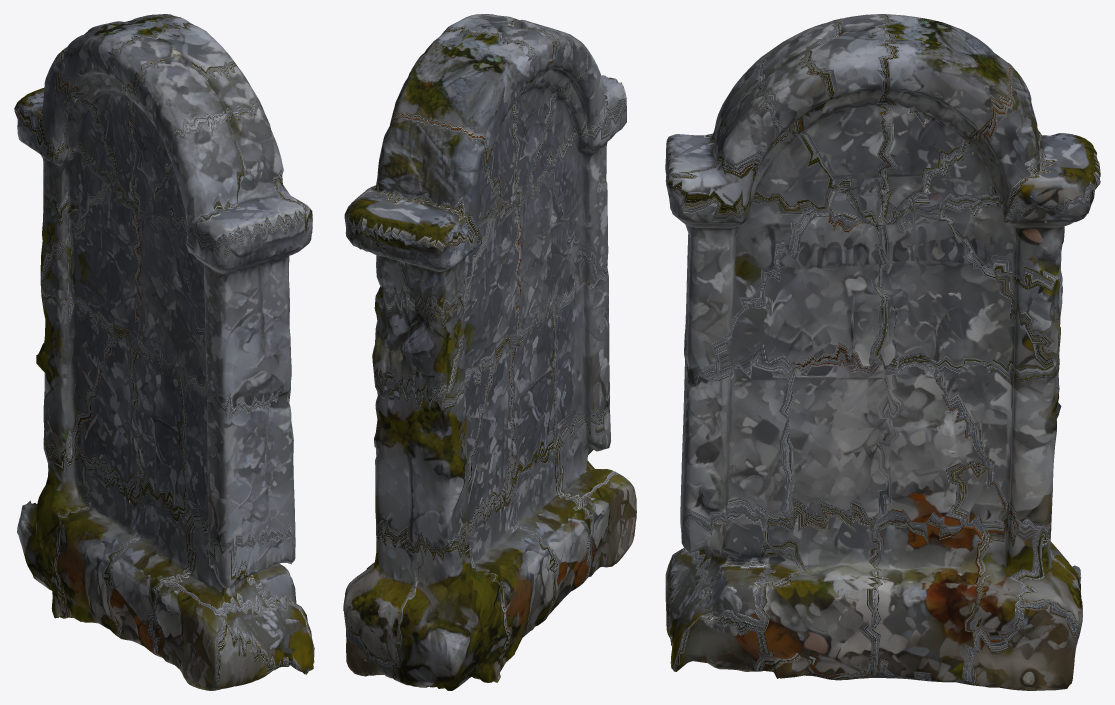
File: شاهد_قبر.glb
3 views of the same model, side by side, from view 1: azimuth 30°, elevation 25°; view 2: azimuth 150°, elevation 25°; view 3: azimuth 270°, elevation 25° (orthographic). The views are drawn at different scales.
Parts seen in each view (by area): view 1: tripo_node_381510e7-a2cb-46cf-875f-1f558b436b22; view 2: tripo_node_381510e7-a2cb-46cf-875f-1f558b436b22; view 3: tripo_node_381510e7-a2cb-46cf-875f-1f558b436b22.
Boxes of the visible parts, x1,y1,x2,y2 form: tripo_node_381510e7-a2cb-46cf-875f-1f558b436b22: [14, 14, 314, 690]; tripo_node_381510e7-a2cb-46cf-875f-1f558b436b22: [343, 14, 636, 690]; tripo_node_381510e7-a2cb-46cf-875f-1f558b436b22: [665, 14, 1100, 690].
Size of the model in its own units: 0.2199 by 0.9992 by 0.6116.
Materials: 1 (1 with a texture image).
